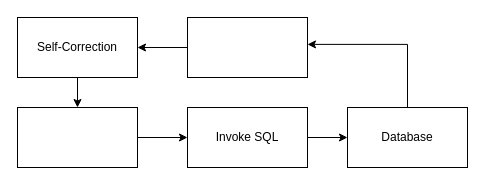
Some shapes in this 485 by 185 pixel diagram are drawn without their labels. The shapes that lost their labels are listed below. From the top down, each one's centre as x and y in pixels, then its label:
the point at 247,47: Error
the point at 77,137: Agent
